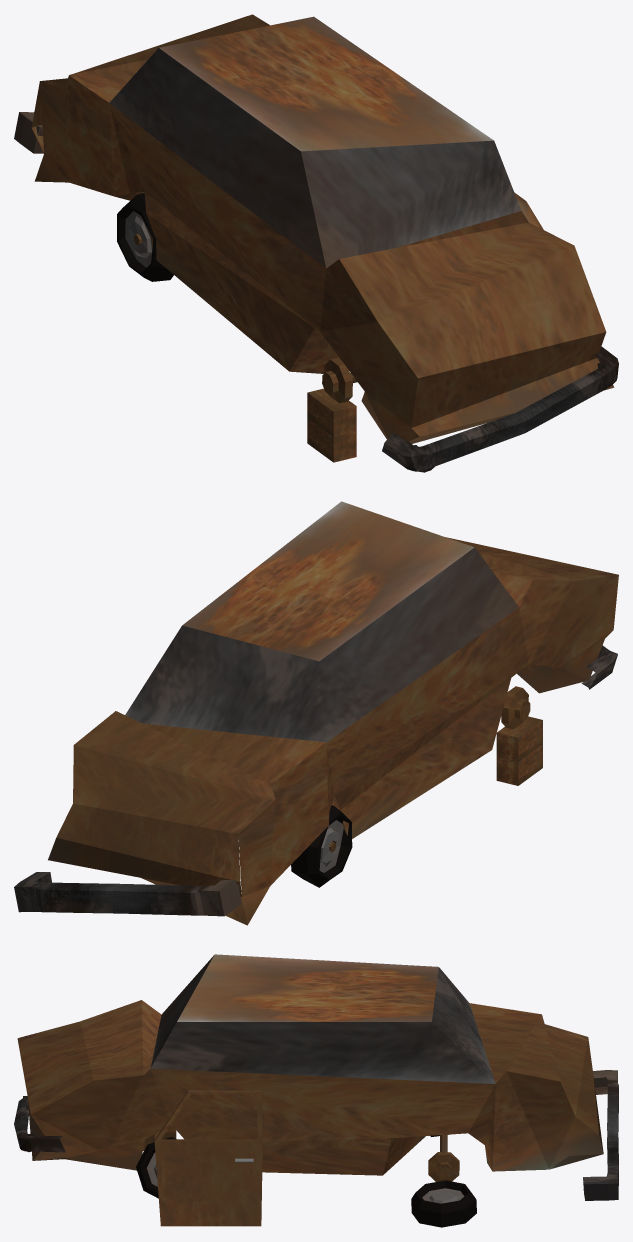
File: DestroyedCar.fbx
3 views of the same model, one above another, from view 1: azimuth 30°, elevation 25°; view 2: azimuth 150°, elevation 25°; view 3: azimuth 270°, elevation 25° (orthographic). The views are drawn at different scales.
Parts seen in each view (by area): view 1: Carro de ferro velho; view 2: Carro de ferro velho; view 3: Carro de ferro velho.
Part boxes in pixels (box(x1,y1,x2,y2)): Carro de ferro velho: box(14, 14, 618, 472); Carro de ferro velho: box(14, 501, 618, 925); Carro de ferro velho: box(14, 954, 618, 1227).
Size of the model in its own units: 321 by 286 by 802.
